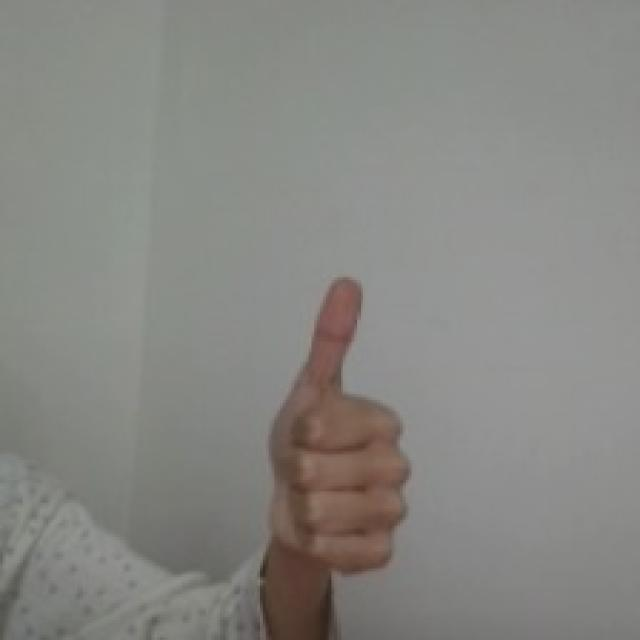fine: (259, 270, 416, 580)
